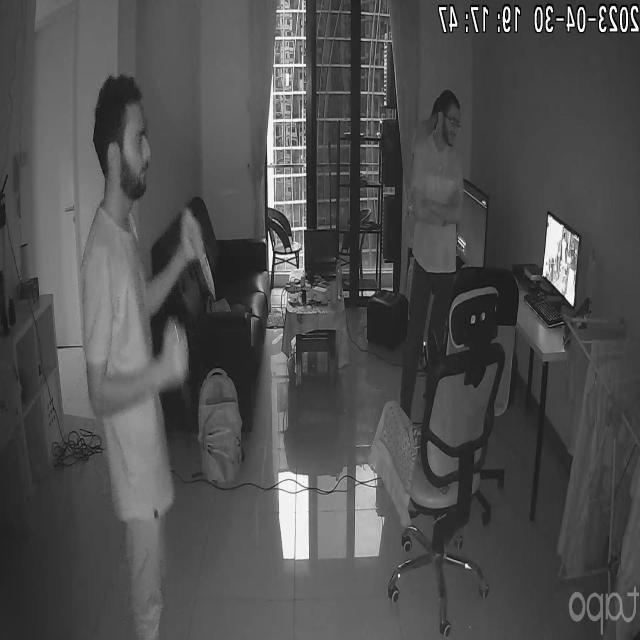Knife: (181, 220, 235, 301)
